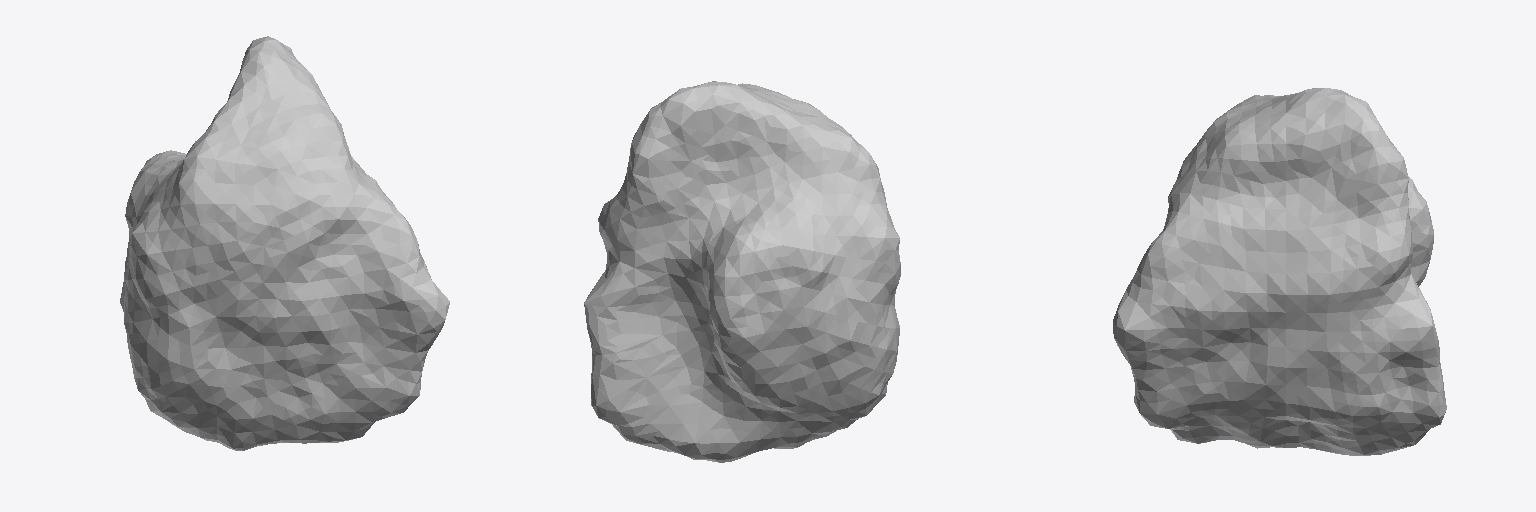
The model's file is Golevka.obj.
3 renders of one model, left to right at view 1: azimuth 30°, elevation 25°; view 2: azimuth 150°, elevation 25°; view 3: azimuth 270°, elevation 25°, orthographic.
Visible parts, largest first — view 1: 6489golevka; view 2: 6489golevka; view 3: 6489golevka.
Part boxes in pixels (x1,y1,x2,y2): 6489golevka: (120, 36, 449, 450); 6489golevka: (584, 81, 900, 462); 6489golevka: (1113, 88, 1446, 455).
Bounding box in the file's own units: 1.67 × 2.33 × 1.95.